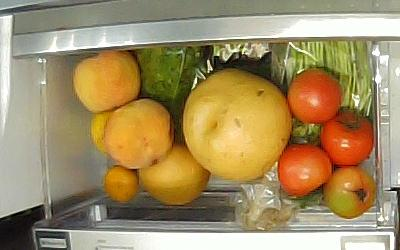peach: (103, 99, 174, 169), (73, 51, 141, 113)
pear: (182, 67, 294, 180), (137, 135, 211, 205)
tangerine: (103, 165, 138, 203), (91, 111, 114, 153)
tomato: (286, 67, 341, 124), (321, 112, 374, 168), (278, 144, 331, 198), (322, 167, 376, 219)
